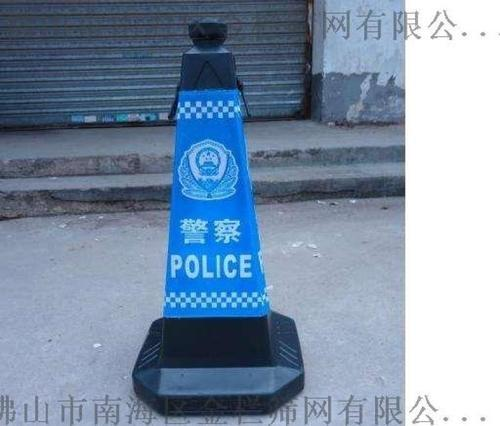cone_barrel: (133, 12, 297, 409)
